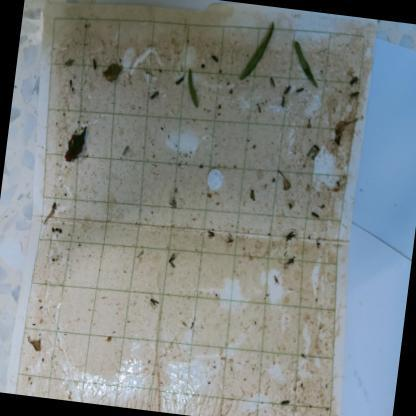prays_oleae: (142, 85, 161, 103), (280, 226, 297, 245), (277, 94, 292, 114), (164, 251, 179, 270), (285, 256, 299, 272), (205, 226, 218, 242), (208, 50, 221, 66), (349, 71, 360, 88), (148, 295, 160, 308), (349, 90, 360, 104), (281, 82, 292, 94)
